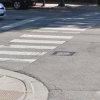Crosswalk: (9, 8, 86, 69)
